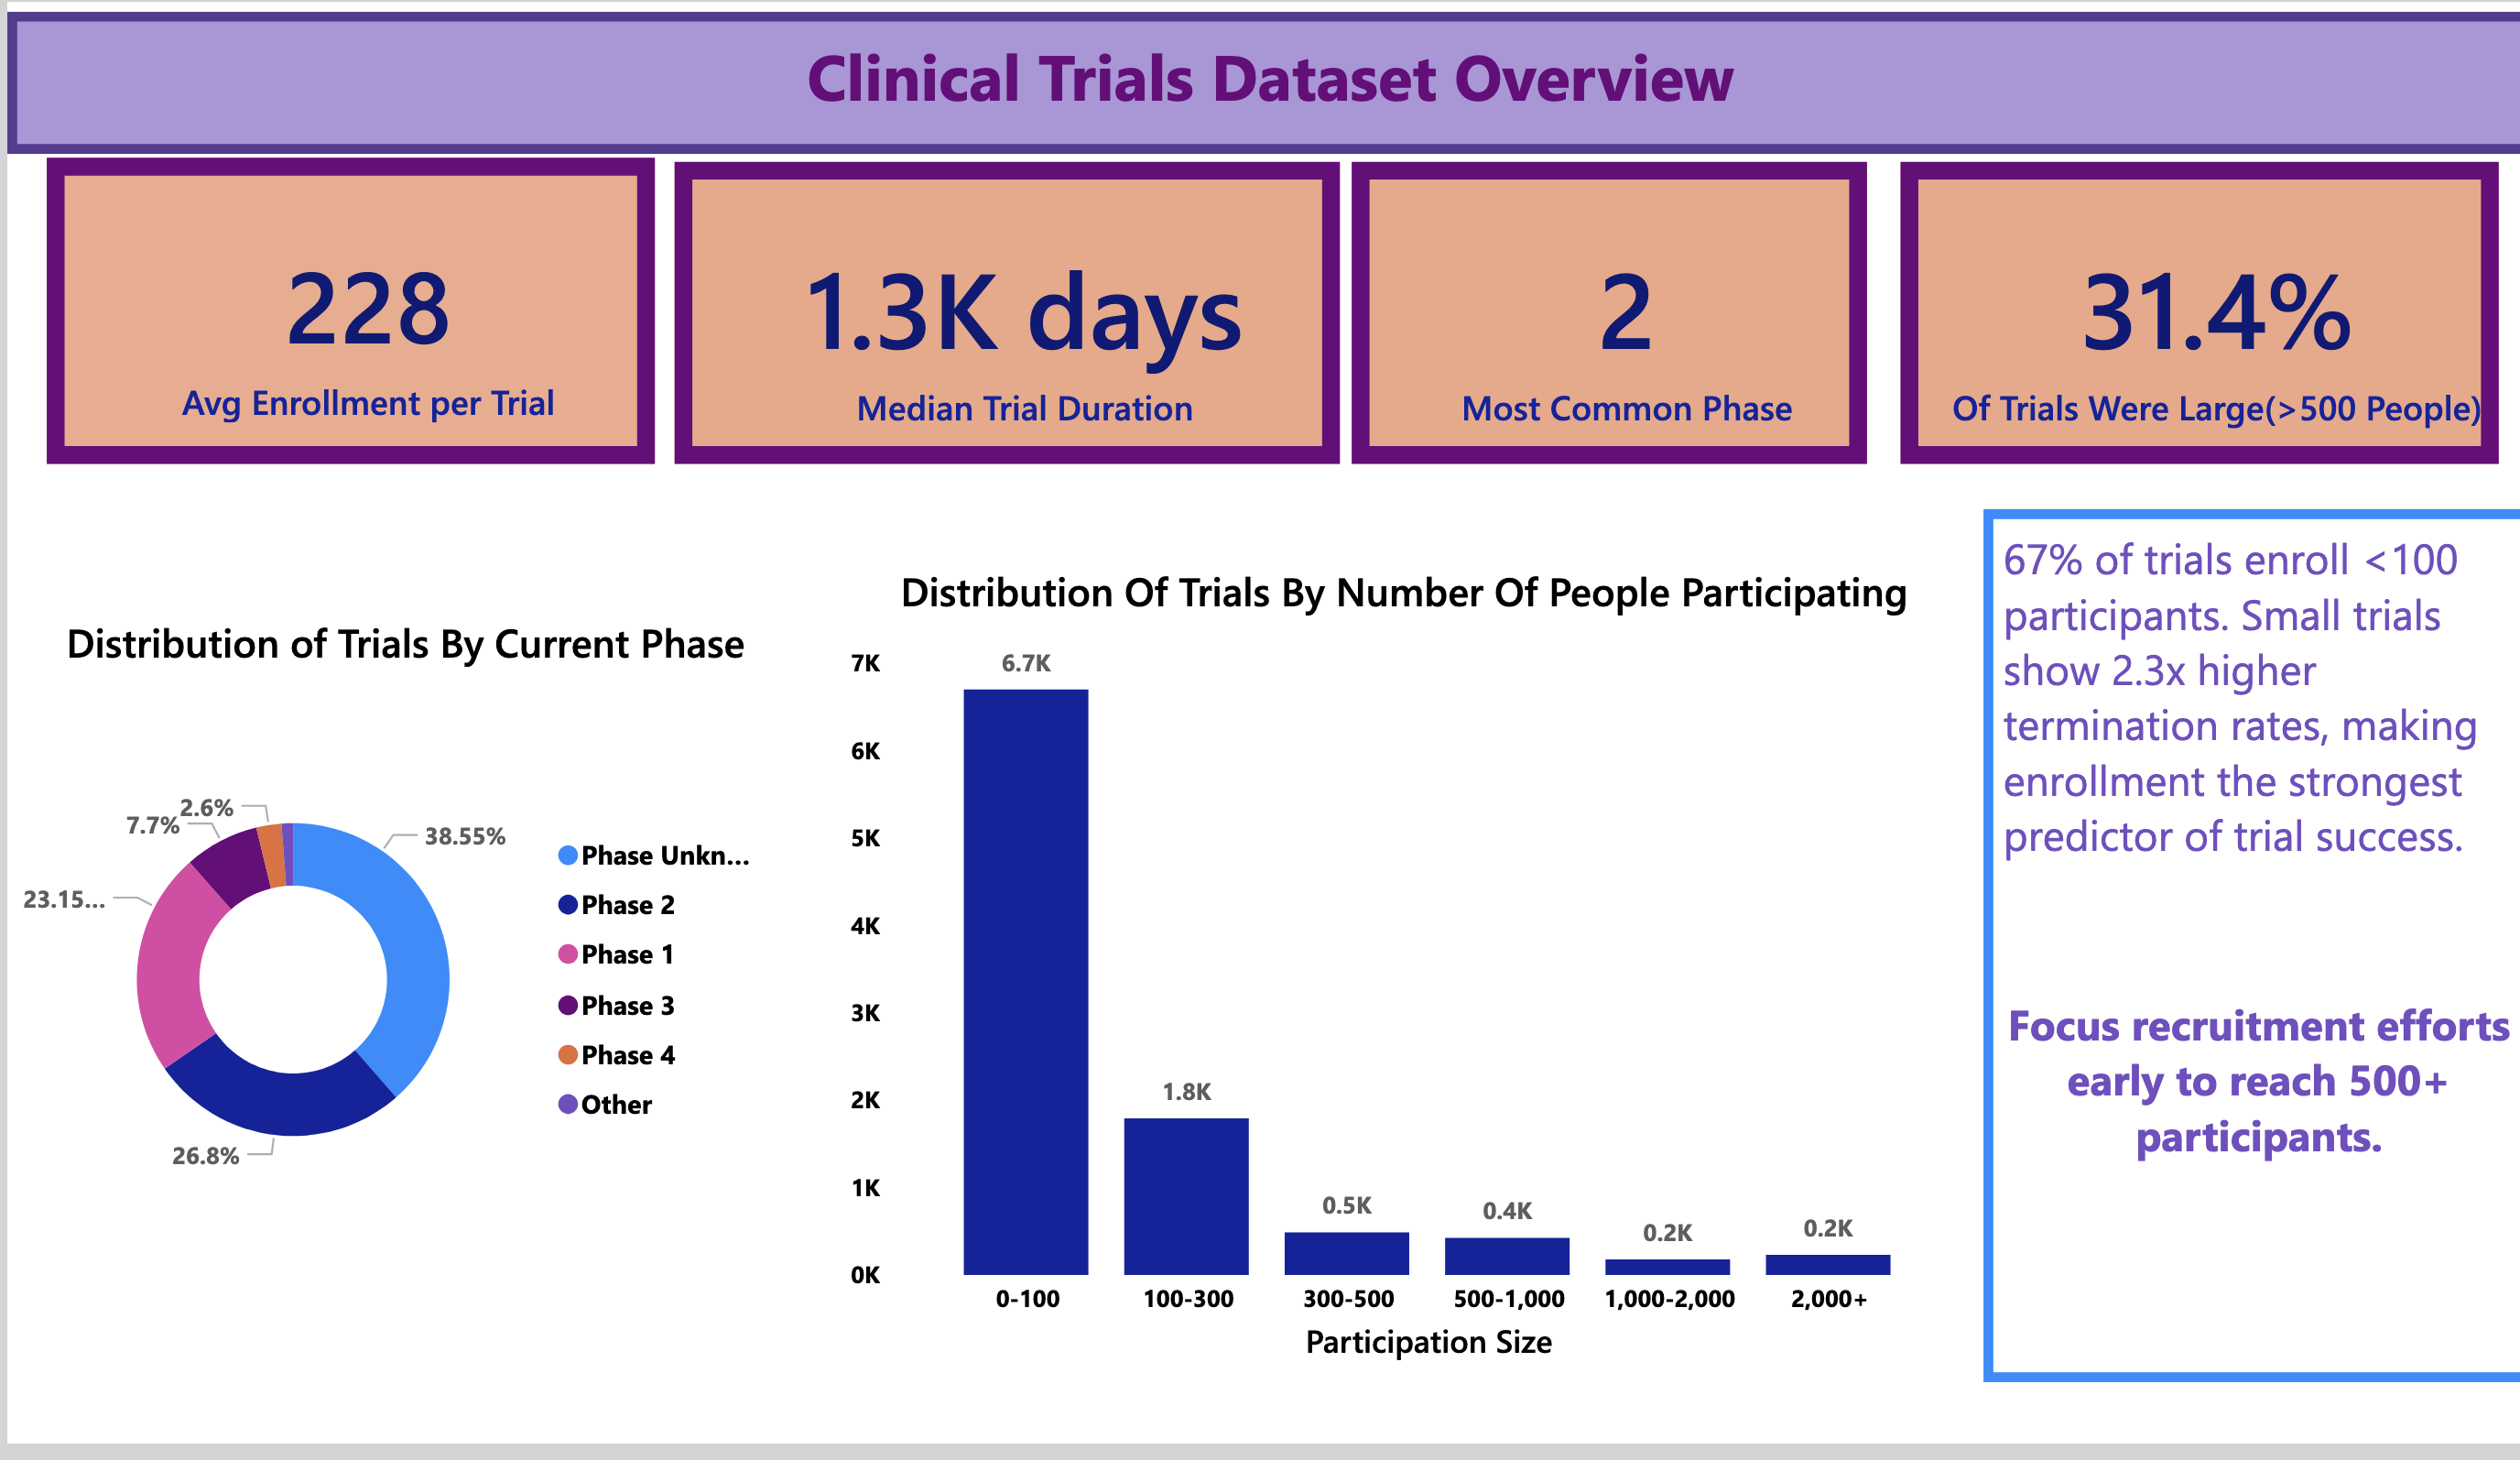

This screenshot's page, from the dashboard's own definition file:
{"tool":"powerbi","page":{"name":"EDA","canvas":[1280,720],"ordinal":2},"visuals":[{"type":"textbox","box":[0,0,1280,71.7],"z":0},{"type":"cardVisual","fields":{"Data":["Min(dataset_summary.Value)"]},"box":[0,74,348.4,155.3],"z":1000},{"type":"cardVisual","fields":{"Data":["Median(oncopredict_predictions.trial_duration_days)"]},"box":[317.7,75.8,377.3,153.5],"z":2000},{"type":"cardVisual","fields":{"Data":["Avg(full_dataset.phase_numeric)"]},"box":[660.8,75.8,301.5,153.5],"z":3000},{"type":"cardVisual","fields":{"Data":["oncopredict_predictions.Large Trial Display"]},"box":[938.8,75.8,343,153.5],"z":4000},{"type":"donutChart","title":"Distribution of Trials By Current Phase","fields":{"Category":["oncopredict_predictions.Phase Label"],"Y":["CountNonNull(oncopredict_predictions.Phase Label)"]},"box":[0,292.7,403.6,361.8],"z":5000},{"type":"clusteredColumnChart","title":"Distribution Of Trials By Number Of People Participating","fields":{"Category":["full_dataset.Enrollment Bins"],"Y":["CountNonNull(full_dataset.Enrollment Bins)"]},"box":[414.9,266.9,585.3,427.7],"z":6000},{"type":"textbox","box":[1000.7,252.4,279.3,442.2],"z":7000}]}

Visuals, with their boxes in screenshot pixels (x1, y1, x2, y2), scaled from the page's 1280x720 canvas onto the 2520x1460 screenshot:
textbox: bbox(0, 0, 2519, 146)
cardVisual - Min(dataset_summary.Value): bbox(0, 150, 686, 465)
cardVisual - Median(oncopredict_predictions.trial_duration_days): bbox(625, 154, 1368, 465)
cardVisual - Avg(full_dataset.phase_numeric): bbox(1301, 154, 1895, 465)
cardVisual - oncopredict_predictions.Large Trial Display: bbox(1848, 154, 2519, 465)
"Distribution of Trials By Current Phase" donutChart: bbox(0, 594, 795, 1327)
"Distribution Of Trials By Number Of People Participating" clusteredColumnChart: bbox(817, 541, 1969, 1409)
textbox: bbox(1971, 512, 2519, 1409)
